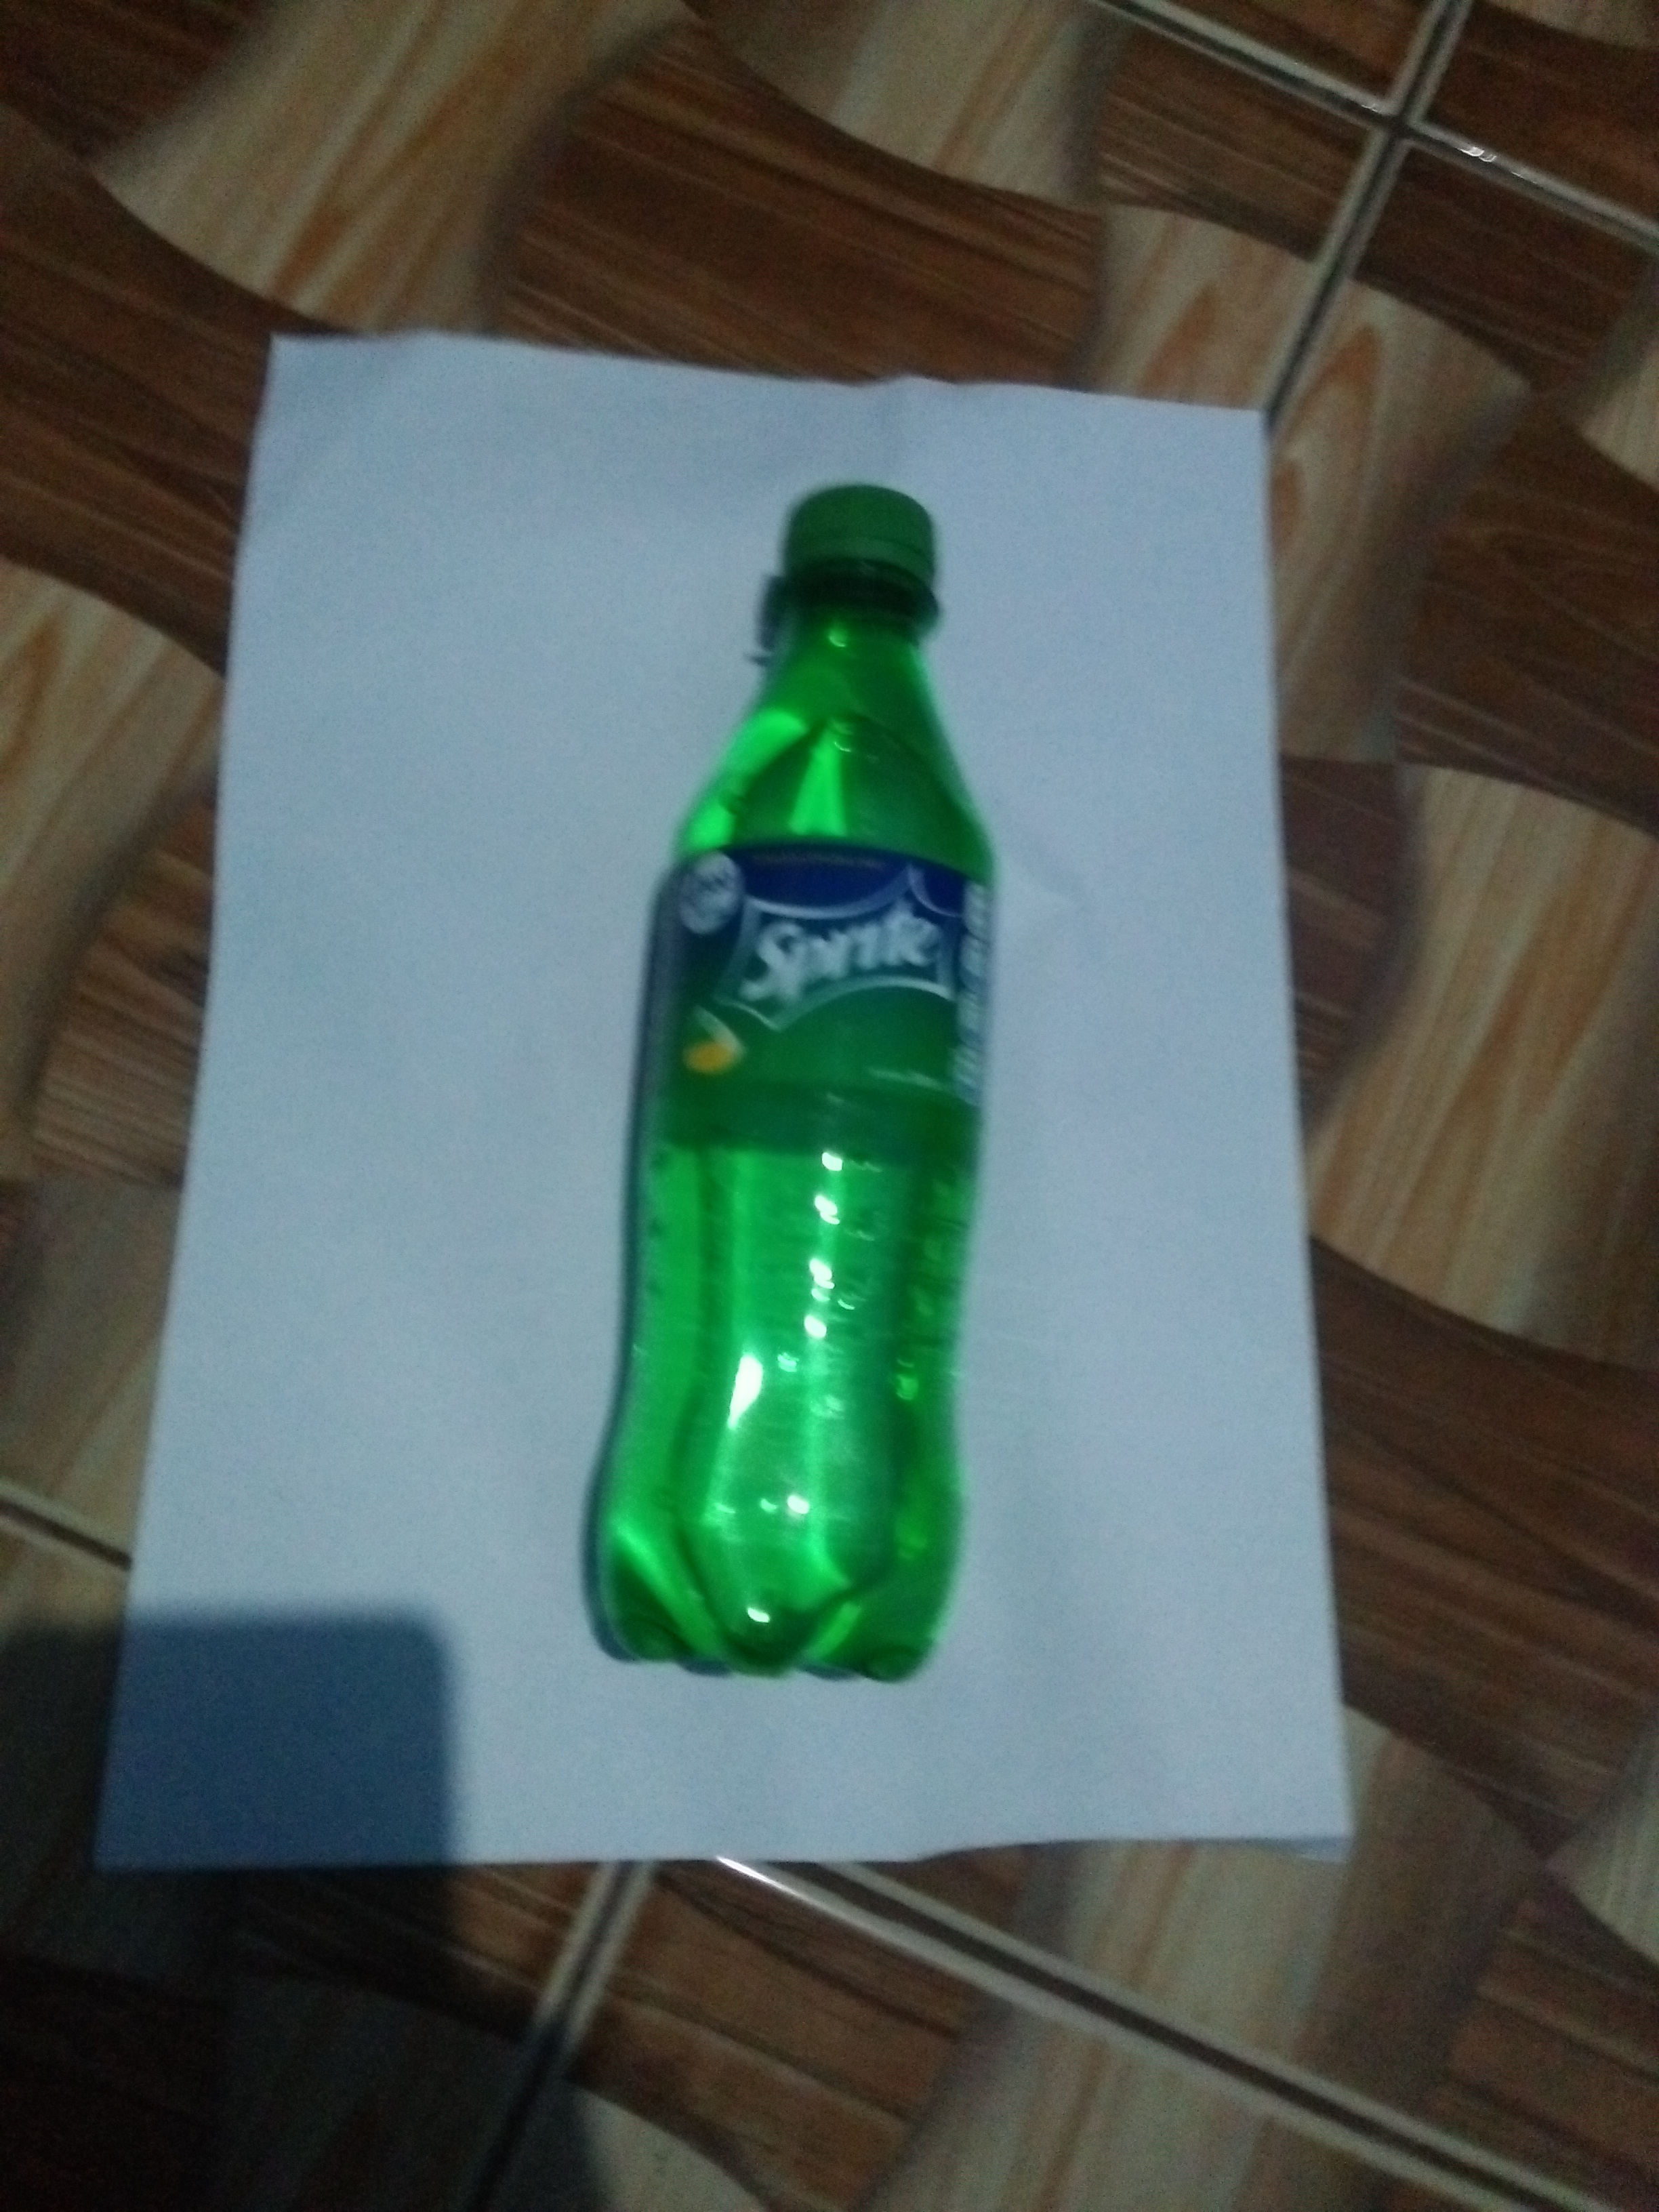Sprite: (563, 470, 1014, 1689)
